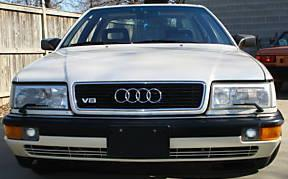front_view: (5, 74, 285, 169)
headlight: (5, 79, 72, 111)
